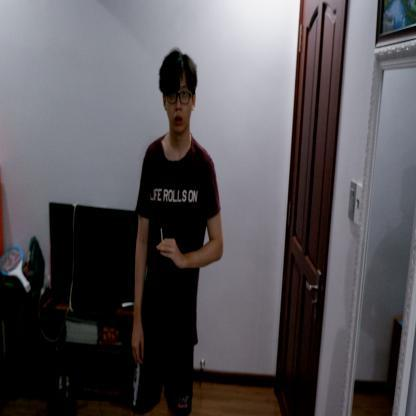cigarette: (160, 226, 164, 243)
person: (131, 44, 226, 415)
